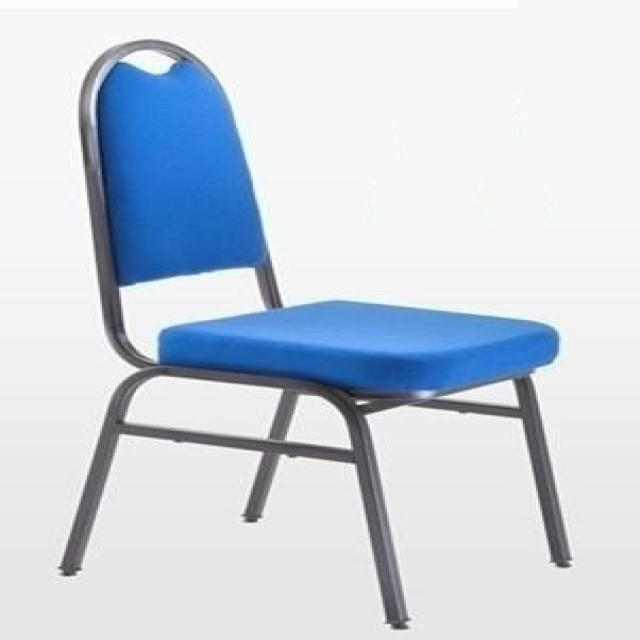chair: (58, 37, 576, 632)
